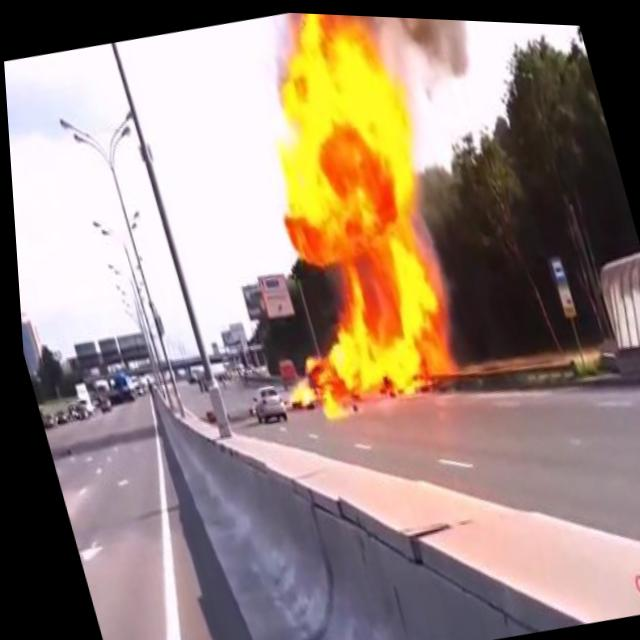fire: (184, 6, 492, 434)
